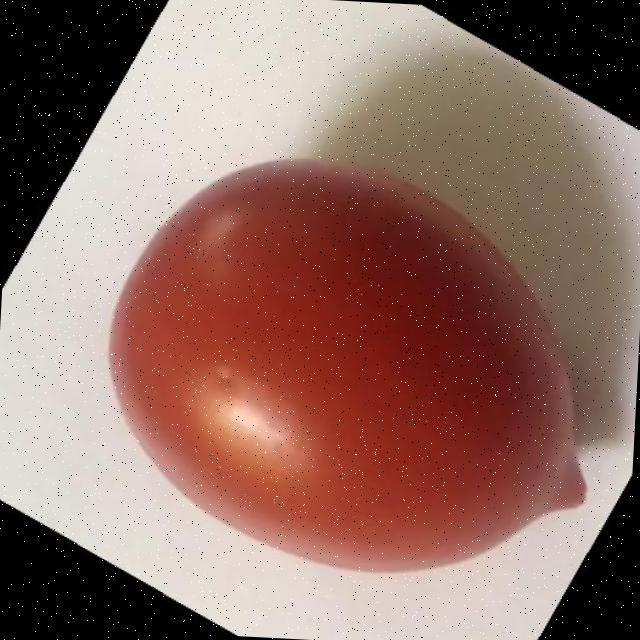tomato: (100, 131, 605, 557)
